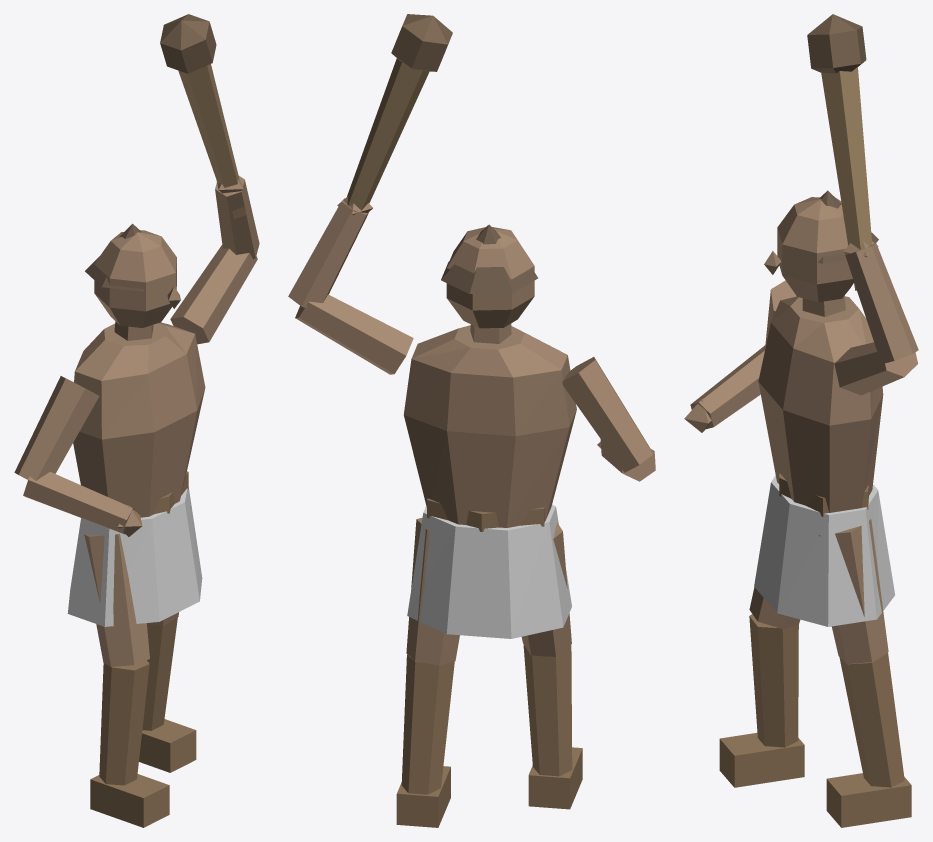
The model's file is maori-warrior.glb.
The picture shows the model from 3 angles, left to right: view 1: azimuth 30°, elevation 25°; view 2: azimuth 150°, elevation 25°; view 3: azimuth 270°, elevation 25°; orthographic projection. The views are drawn at different scales.
Parts seen in each view (by area): view 1: LOD0; view 2: LOD0; view 3: LOD0.
Boxes of the visible parts, box(x1,y1,x2,y2) form: LOD0: box(14, 14, 259, 827); LOD0: box(288, 14, 655, 827); LOD0: box(684, 14, 918, 827).
Size of what is drawn, in the model's own units: 0.5368 by 1.3 by 0.3451.
